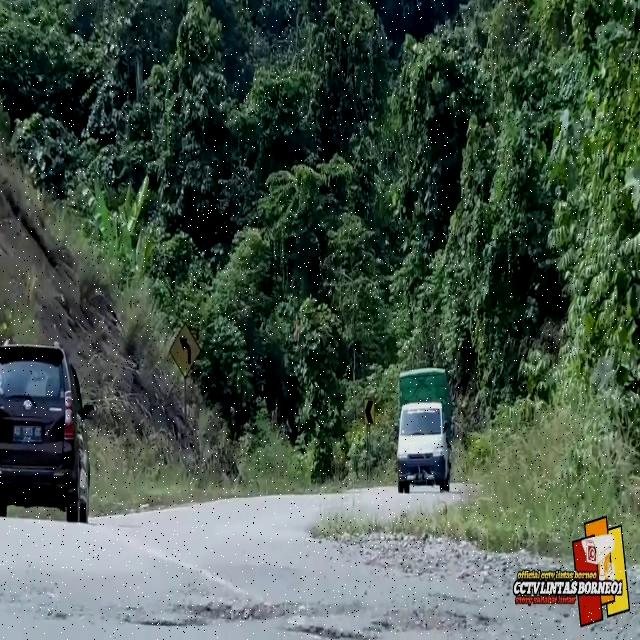Golongan IVB: (395, 404, 453, 495)
